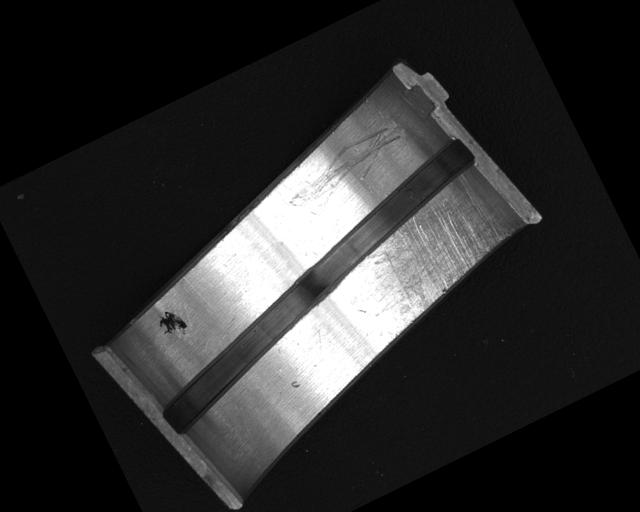blot: (153, 304, 190, 344)
bruise: (288, 376, 302, 391)
gap: (107, 135, 529, 441)
nick: (274, 117, 418, 223)
scratch: (334, 166, 530, 343)
